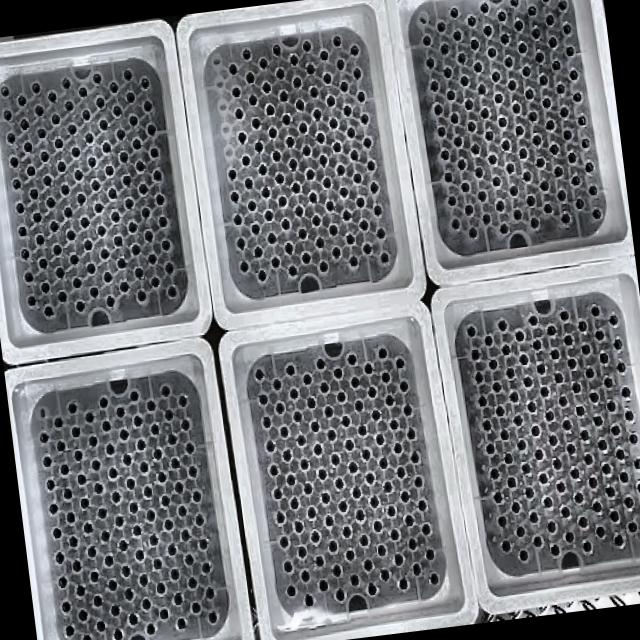vial: (155, 468, 168, 486), (485, 44, 498, 62), (292, 519, 306, 535), (270, 486, 284, 502), (378, 566, 392, 582), (524, 398, 538, 414), (562, 529, 576, 545), (534, 360, 546, 378), (66, 122, 80, 137), (108, 490, 122, 505), (364, 582, 378, 597), (324, 428, 338, 443), (266, 463, 280, 478), (464, 322, 478, 337), (479, 210, 492, 226), (38, 150, 51, 166), (298, 568, 311, 584), (309, 529, 322, 545), (404, 426, 417, 442), (496, 316, 509, 332), (572, 490, 585, 506), (302, 591, 314, 608), (492, 489, 504, 506), (558, 503, 570, 520), (578, 136, 592, 150), (506, 184, 520, 198), (312, 554, 326, 568), (284, 584, 298, 598), (338, 414, 352, 428), (328, 452, 342, 466), (362, 361, 375, 376), (376, 456, 389, 471), (369, 408, 382, 423), (499, 342, 512, 357), (612, 533, 625, 548), (538, 177, 550, 193), (277, 88, 289, 104), (311, 212, 323, 228), (300, 248, 312, 264), (136, 180, 148, 196), (110, 208, 122, 224), (180, 416, 192, 432), (142, 484, 154, 500), (74, 582, 86, 598), (200, 560, 212, 576), (296, 544, 308, 560), (333, 475, 345, 491), (331, 562, 343, 578), (344, 352, 356, 368), (349, 374, 361, 390), (409, 450, 421, 466), (590, 302, 602, 318), (476, 394, 488, 410), (580, 538, 592, 554), (422, 56, 436, 69), (434, 20, 447, 34), (570, 90, 583, 104), (572, 197, 585, 211), (235, 130, 248, 144), (358, 111, 372, 124), (286, 156, 299, 170), (245, 199, 258, 213), (18, 117, 31, 131), (55, 160, 68, 174), (154, 192, 167, 206), (160, 238, 173, 252), (186, 465, 199, 479), (182, 552, 195, 566), (202, 586, 215, 600), (175, 616, 188, 630), (316, 578, 329, 592), (333, 588, 346, 602), (396, 578, 409, 592), (376, 345, 389, 359), (304, 396, 317, 410), (521, 375, 534, 389), (498, 428, 511, 442), (488, 466, 501, 480), (445, 88, 457, 103), (431, 102, 443, 117), (334, 56, 346, 71), (288, 51, 300, 66), (294, 98, 306, 113), (294, 202, 306, 217), (256, 268, 268, 283), (61, 204, 73, 219), (116, 255, 128, 270), (61, 486, 73, 501), (163, 406, 175, 421), (53, 549, 65, 564), (159, 493, 171, 508), (102, 553, 114, 568), (152, 556, 164, 571), (137, 571, 149, 586), (172, 590, 184, 605), (395, 464, 407, 479), (301, 370, 313, 385), (287, 386, 299, 401), (264, 439, 276, 454), (312, 441, 324, 456), (469, 347, 481, 362), (472, 370, 484, 385), (489, 379, 501, 394), (574, 403, 586, 418), (569, 464, 581, 479), (554, 479, 566, 494), (528, 510, 540, 525), (280, 110, 291, 126), (331, 139, 342, 155), (5, 130, 16, 146), (96, 222, 107, 238), (75, 298, 86, 314), (145, 506, 156, 522), (428, 570, 439, 586), (320, 380, 331, 396), (281, 448, 292, 464), (519, 170, 532, 183), (234, 237, 247, 250), (448, 6, 460, 20), (542, 12, 554, 26), (472, 60, 484, 74), (457, 75, 469, 89), (512, 18, 524, 32), (545, 35, 557, 49), (519, 64, 531, 78), (567, 68, 579, 82), (554, 82, 566, 96), (540, 96, 552, 110), (523, 88, 535, 102), (439, 148, 451, 162), (544, 118, 556, 132), (575, 114, 587, 128), (565, 150, 577, 164), (474, 189, 486, 203), (466, 226, 478, 240), (494, 198, 506, 212), (524, 194, 536, 208), (542, 201, 554, 215), (560, 212, 572, 226), (330, 34, 342, 48), (349, 44, 361, 58), (270, 44, 282, 58), (354, 90, 366, 104), (260, 82, 272, 96), (315, 130, 327, 144), (348, 148, 360, 162), (300, 143, 312, 157), (240, 154, 252, 168), (358, 218, 370, 232), (286, 264, 298, 278), (24, 164, 36, 178), (35, 126, 47, 140), (60, 76, 72, 90), (33, 103, 45, 117), (100, 140, 112, 154), (144, 122, 156, 136), (13, 202, 25, 216), (142, 228, 154, 242), (70, 276, 82, 290), (56, 288, 68, 302), (26, 294, 38, 308), (88, 284, 100, 298), (100, 270, 112, 284), (160, 384, 172, 398), (118, 428, 130, 442), (104, 442, 116, 456), (90, 457, 102, 471), (75, 472, 87, 486), (47, 502, 59, 516), (72, 448, 84, 462), (128, 389, 140, 403), (38, 431, 50, 445), (52, 416, 64, 430), (134, 438, 146, 452), (78, 496, 90, 510), (51, 526, 63, 540), (138, 460, 150, 474), (82, 521, 94, 535), (169, 456, 181, 470), (128, 500, 140, 514), (98, 528, 110, 542), (67, 534, 79, 548), (56, 574, 68, 588), (190, 490, 202, 504), (118, 538, 130, 552), (176, 503, 188, 517), (162, 518, 174, 532), (197, 536, 209, 550), (63, 624, 75, 638), (368, 496, 380, 510), (364, 471, 376, 485), (326, 538, 338, 552), (282, 559, 294, 573), (306, 506, 318, 520), (278, 536, 290, 550), (412, 474, 424, 488), (348, 572, 360, 586), (362, 558, 374, 572), (410, 562, 422, 576), (424, 548, 436, 562), (392, 552, 404, 566), (376, 543, 388, 557), (420, 522, 432, 536), (402, 513, 414, 527), (252, 367, 264, 381), (257, 393, 269, 407), (260, 415, 272, 429), (278, 424, 290, 438), (366, 384, 378, 398), (353, 399, 365, 413), (316, 468, 328, 482), (346, 460, 358, 474), (387, 417, 399, 431), (557, 308, 569, 322), (514, 328, 526, 342), (504, 368, 516, 382), (486, 357, 498, 371), (552, 372, 564, 386), (588, 390, 600, 404), (624, 409, 636, 423), (480, 418, 492, 432), (502, 451, 514, 465), (515, 438, 527, 452), (578, 428, 590, 442), (496, 514, 508, 528), (542, 494, 554, 508), (614, 447, 626, 461), (618, 470, 630, 484), (622, 495, 634, 509), (626, 519, 638, 533), (594, 524, 606, 538), (576, 516, 588, 530), (546, 520, 558, 534), (532, 534, 544, 548), (514, 524, 526, 538), (517, 548, 529, 562), (448, 111, 459, 126), (238, 259, 249, 274), (10, 175, 21, 190), (149, 422, 160, 437), (95, 619, 106, 634), (351, 486, 362, 501), (394, 356, 405, 371), (379, 369, 390, 384), (483, 333, 494, 348), (512, 412, 523, 427), (520, 461, 531, 476), (470, 142, 480, 158), (419, 34, 431, 47), (498, 32, 510, 45), (506, 79, 518, 92), (564, 44, 576, 57), (456, 158, 468, 171), (462, 98, 474, 111), (557, 105, 569, 118), (442, 170, 454, 183), (445, 195, 457, 208), (462, 203, 474, 216), (590, 207, 602, 220), (240, 48, 252, 61), (308, 85, 320, 98), (230, 85, 242, 98), (361, 134, 373, 147), (259, 186, 271, 199), (296, 227, 308, 240), (375, 226, 387, 239), (108, 81, 120, 94), (2, 108, 14, 121), (28, 187, 40, 200), (16, 224, 28, 237), (146, 145, 158, 158), (34, 233, 46, 246), (98, 247, 110, 260), (132, 266, 144, 279), (144, 399, 156, 412), (44, 478, 56, 491), (178, 395, 190, 408), (92, 481, 104, 494), (64, 511, 76, 524), (168, 567, 180, 580), (206, 611, 218, 624), (111, 628, 124, 640), (382, 480, 394, 493), (354, 508, 366, 521), (274, 511, 286, 524), (290, 410, 302, 423), (397, 380, 409, 393), (373, 432, 385, 445), (608, 312, 620, 325), (518, 353, 530, 366), (609, 423, 621, 436), (538, 385, 550, 398), (596, 437, 608, 450), (503, 54, 514, 68), (428, 80, 439, 94), (451, 28, 462, 42), (438, 42, 449, 56), (442, 66, 453, 80), (533, 50, 544, 64), (550, 58, 561, 72), (538, 73, 549, 87), (478, 106, 489, 120), (453, 135, 464, 149), (498, 222, 509, 236), (318, 48, 329, 62), (305, 62, 316, 76), (338, 80, 349, 94), (245, 70, 256, 84), (270, 148, 281, 162), (284, 134, 295, 148), (317, 154, 328, 168), (257, 163, 268, 177), (290, 180, 301, 194), (338, 185, 349, 199), (324, 198, 335, 212), (229, 190, 240, 204), (232, 214, 243, 228), (266, 230, 277, 244), (361, 240, 372, 254), (270, 254, 281, 268), (94, 96, 105, 110), (81, 108, 92, 122), (53, 136, 64, 150), (22, 140, 33, 154), (128, 114, 139, 128), (131, 138, 142, 152), (45, 195, 56, 209), (151, 168, 162, 182), (82, 238, 93, 252), (130, 242, 141, 256), (85, 260, 96, 274), (147, 252, 158, 266), (59, 462, 70, 476), (87, 434, 98, 448), (41, 454, 52, 468), (121, 452, 132, 466), (125, 476, 136, 490), (96, 506, 107, 520), (184, 440, 195, 454), (114, 514, 125, 528), (86, 544, 97, 558), (173, 480, 184, 494), (60, 600, 71, 614), (107, 578, 118, 592), (194, 512, 205, 526), (77, 608, 88, 622), (145, 622, 156, 636), (322, 514, 333, 528), (302, 482, 313, 496), (344, 548, 355, 562), (389, 528, 400, 542), (285, 363, 296, 377), (322, 404, 333, 418), (360, 447, 371, 461), (527, 314, 538, 328), (549, 348, 560, 362), (570, 380, 581, 394), (592, 414, 603, 428), (557, 393, 568, 407), (508, 390, 519, 404), (494, 404, 505, 418), (544, 408, 555, 422), (530, 423, 541, 437), (546, 432, 557, 446), (506, 476, 517, 490), (510, 500, 521, 514), (600, 462, 611, 476), (587, 474, 598, 488), (501, 538, 512, 552), (226, 167, 236, 182), (384, 392, 394, 407), (344, 436, 354, 451), (612, 336, 622, 351), (580, 342, 590, 357), (484, 442, 494, 457), (454, 52, 466, 64), (552, 164, 564, 176), (512, 208, 524, 220), (301, 40, 313, 52), (350, 66, 362, 78), (226, 63, 238, 75), (343, 232, 355, 244), (15, 95, 27, 107), (90, 180, 102, 192), (66, 401, 78, 413), (314, 358, 326, 370), (274, 402, 286, 414), (298, 458, 310, 470), (284, 474, 296, 486), (478, 0, 489, 13), (482, 24, 493, 37), (468, 38, 479, 51), (527, 110, 538, 123), (497, 115, 508, 128), (484, 129, 495, 142), (435, 126, 446, 139), (492, 91, 503, 104), (466, 119, 477, 132), (561, 128, 572, 141), (487, 153, 498, 166), (528, 216, 539, 229), (291, 75, 302, 88), (341, 104, 352, 117), (264, 103, 275, 116), (311, 108, 322, 121), (267, 126, 278, 139), (253, 140, 264, 153), (345, 125, 356, 138), (321, 175, 332, 188), (334, 162, 345, 175), (243, 175, 254, 188), (274, 172, 285, 185), (327, 222, 338, 235), (313, 235, 324, 248), (50, 112, 61, 125), (77, 85, 88, 98), (46, 89, 57, 102), (30, 81, 41, 94), (111, 104, 122, 117), (114, 128, 125, 141), (127, 220, 138, 233), (51, 242, 62, 255), (22, 271, 33, 284), (43, 304, 54, 317), (98, 395, 109, 408), (84, 410, 95, 423), (108, 466, 119, 479), (152, 448, 163, 461), (155, 581, 166, 594), (140, 597, 151, 610), (187, 576, 198, 589), (407, 537, 418, 550), (332, 366, 343, 379), (335, 390, 346, 403), (295, 433, 306, 446), (577, 320, 588, 333), (490, 70, 500, 84), (476, 82, 486, 96), (526, 3, 536, 17), (518, 146, 528, 160), (548, 142, 558, 156), (584, 160, 594, 174), (275, 66, 285, 80), (326, 94, 336, 108), (298, 120, 308, 134), (356, 194, 366, 208), (342, 208, 352, 222), (277, 195, 287, 209), (380, 250, 390, 264), (330, 244, 340, 258), (284, 240, 294, 254), (253, 245, 263, 259), (8, 154, 18, 168), (98, 118, 108, 132), (32, 210, 42, 224), (140, 205, 150, 219), (66, 228, 76, 242), (19, 246, 29, 260), (38, 256, 48, 270), (54, 266, 64, 280), (158, 214, 168, 228), (120, 279, 130, 293), (106, 294, 116, 308), (136, 290, 146, 304), (132, 413, 142, 427), (56, 438, 66, 452), (167, 432, 177, 446), (72, 559, 82, 573), (132, 524, 142, 538), (90, 569, 100, 583), (134, 548, 144, 562), (180, 528, 190, 542), (124, 586, 134, 600), (128, 612, 138, 626), (159, 606, 169, 620), (372, 518, 382, 532), (358, 534, 368, 548), (416, 498, 426, 512), (310, 419, 320, 433), (392, 442, 402, 456), (532, 338, 542, 352), (546, 324, 556, 338), (563, 333, 573, 347), (594, 328, 604, 342), (604, 376, 614, 390), (566, 356, 576, 370), (620, 385, 630, 399), (606, 398, 616, 412), (534, 448, 544, 462), (539, 470, 549, 484), (583, 452, 593, 466), (604, 484, 614, 498), (609, 508, 619, 522), (592, 499, 602, 513), (496, 10, 507, 22), (570, 176, 581, 188), (588, 184, 599, 196), (321, 72, 332, 84), (303, 168, 314, 180), (351, 172, 362, 184), (371, 205, 382, 217), (63, 100, 74, 112), (125, 90, 136, 102), (84, 132, 95, 144), (118, 150, 129, 162), (121, 174, 132, 186), (93, 201, 104, 213), (80, 216, 91, 228), (166, 286, 177, 298), (114, 406, 125, 418), (92, 594, 103, 606), (288, 497, 299, 509), (356, 424, 367, 436), (551, 456, 562, 468), (530, 26, 540, 39), (510, 102, 520, 115), (514, 124, 524, 137), (504, 161, 514, 174), (491, 175, 501, 188), (450, 218, 460, 231), (248, 93, 258, 106), (328, 116, 338, 129), (250, 116, 260, 129), (366, 158, 376, 171), (368, 181, 378, 194), (308, 190, 318, 203), (250, 222, 260, 235), (319, 260, 329, 273), (122, 68, 132, 81), (92, 71, 102, 84), (140, 76, 150, 89), (42, 174, 52, 187), (73, 168, 83, 181), (60, 182, 70, 195), (104, 164, 114, 177), (76, 192, 86, 205), (134, 160, 144, 173), (124, 197, 134, 210), (70, 253, 80, 266), (113, 235, 123, 248), (40, 281, 50, 294), (164, 261, 174, 274), (101, 419, 111, 432), (120, 564, 130, 577), (168, 543, 178, 556), (110, 603, 120, 616), (190, 600, 200, 613), (399, 490, 409, 503), (272, 377, 282, 390), (616, 361, 626, 374), (562, 418, 572, 431), (524, 486, 534, 499), (628, 431, 638, 444), (550, 543, 560, 556), (557, 0, 568, 11), (516, 41, 526, 53), (466, 14, 476, 26), (561, 22, 571, 34), (531, 134, 541, 146), (556, 188, 566, 200), (258, 58, 268, 70), (264, 208, 274, 220), (280, 217, 290, 229), (348, 256, 358, 268), (0, 85, 10, 97), (70, 146, 80, 158), (142, 100, 152, 112), (87, 156, 97, 168), (48, 220, 58, 232), (108, 187, 118, 199), (150, 275, 160, 287), (70, 425, 80, 437), (149, 533, 159, 545), (342, 526, 352, 538), (338, 500, 348, 512), (320, 492, 330, 504), (386, 504, 396, 516), (402, 404, 412, 416), (599, 352, 609, 364), (584, 366, 594, 378), (566, 442, 576, 454), (473, 165, 482, 178), (460, 180, 469, 193), (234, 107, 243, 120), (502, 138, 511, 150), (509, 0, 520, 9), (633, 456, 640, 470), (80, 633, 93, 640), (536, 158, 544, 169), (636, 480, 640, 494), (540, 0, 552, 4)
